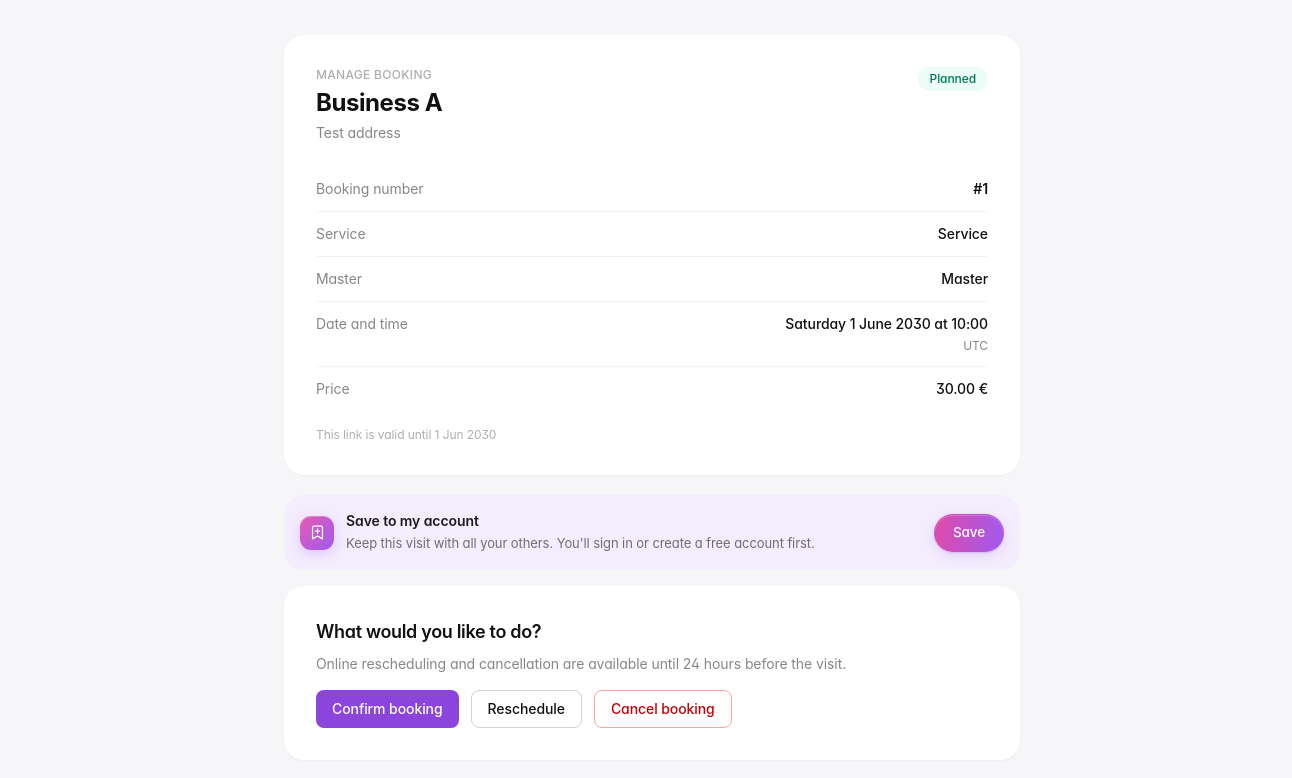
Scenario: does not let late manage A success mutate B cache or action state
This screenshot has width=1292, height=778.
(page scrolled)
Expected: the heading "Business A" is shown, top-left (316, 87), bottom-right (442, 119)
Click the button "Confirm booking" at (387, 709), box top-left (316, 690), bottom-right (458, 728)
(page scrolled)
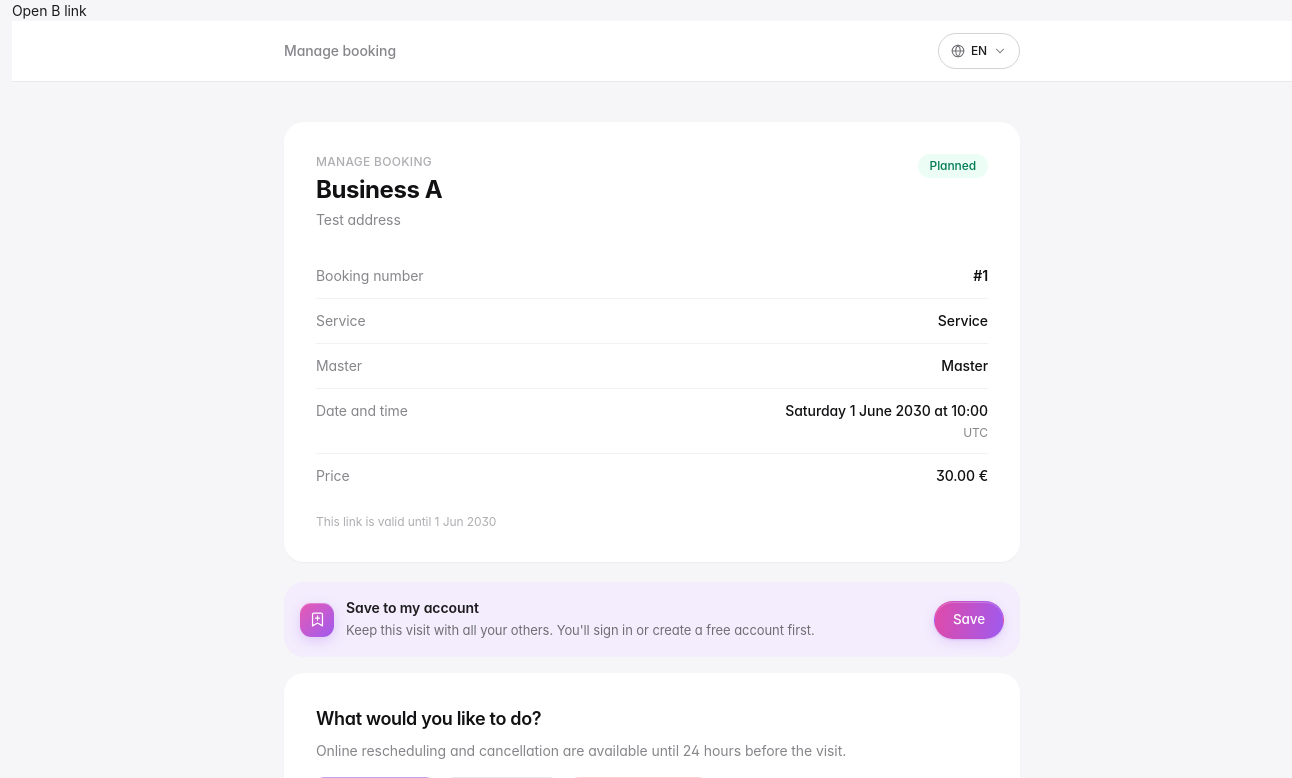
Click the link "Open B link" at (49, 10), box top-left (12, 2), bottom-right (87, 19)
(page scrolled)
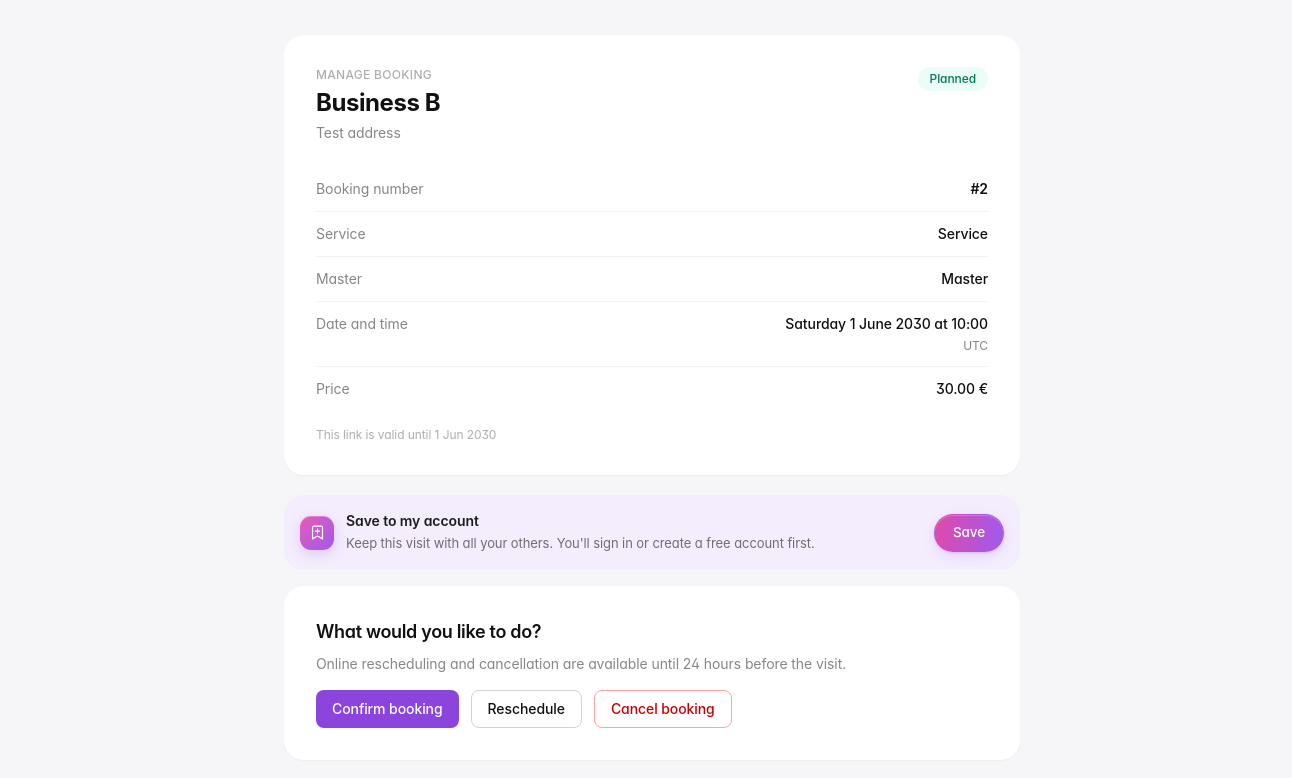
Now the heading "Business B" is shown, box top-left (316, 87), bottom-right (440, 119)
Now the button "Confirm booking" is enabled, box top-left (316, 690), bottom-right (458, 728)
